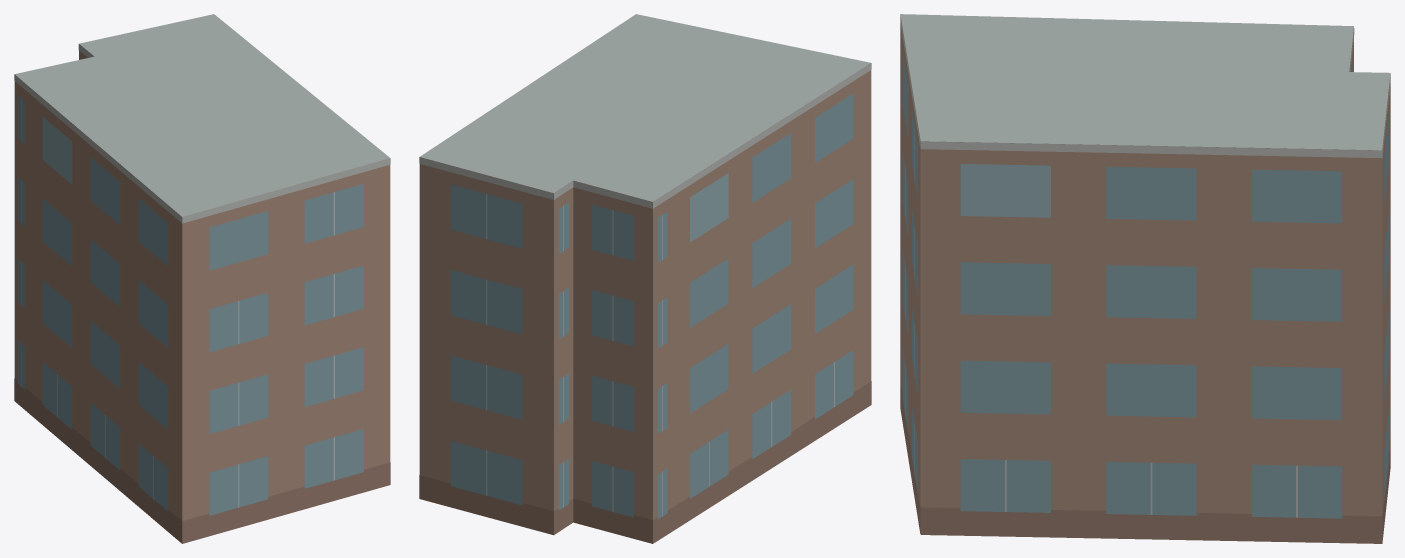
The model's file is residential-2e3a8f85-9a9b-4609-9f75-a343293aa1b7.glb.
3 renders of one model, left to right at view 1: azimuth 30°, elevation 25°; view 2: azimuth 150°, elevation 25°; view 3: azimuth 270°, elevation 25°, orthographic. The views are drawn at different scales.
Visible parts, largest first — view 1: residential-2e3a8f85-9a9b-4609-9f75-a343293aa1b7.tmp; view 2: residential-2e3a8f85-9a9b-4609-9f75-a343293aa1b7.tmp; view 3: residential-2e3a8f85-9a9b-4609-9f75-a343293aa1b7.tmp.
Boxes of the visible parts, x1,y1,x2,y2 form: residential-2e3a8f85-9a9b-4609-9f75-a343293aa1b7.tmp: (14, 14, 390, 543); residential-2e3a8f85-9a9b-4609-9f75-a343293aa1b7.tmp: (419, 14, 871, 543); residential-2e3a8f85-9a9b-4609-9f75-a343293aa1b7.tmp: (900, 14, 1390, 543).
Bounding box in the file's own units: 9.07 × 12.2 × 13.78.
